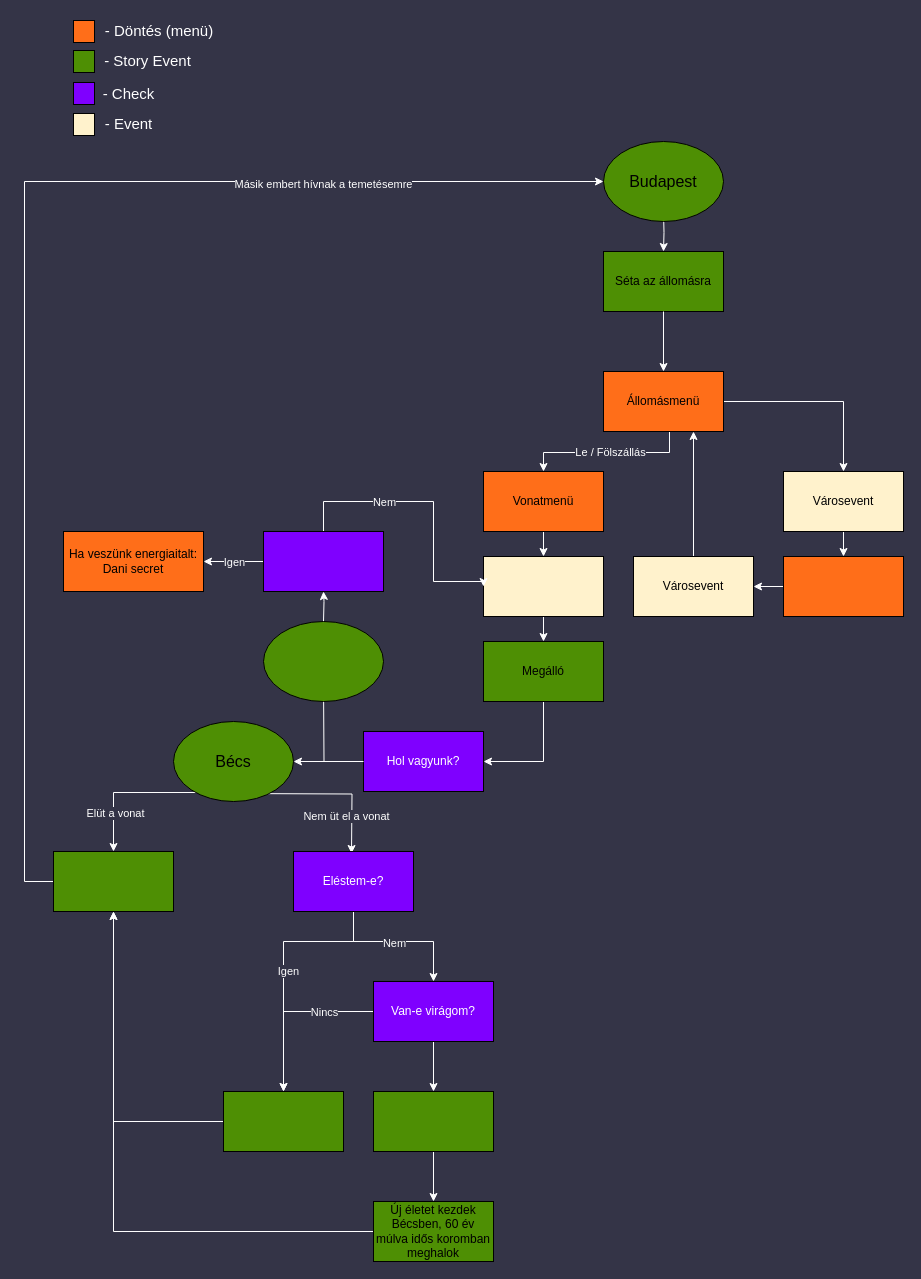
Image size: 921x1279. Some labels were removed from this diagram. The centre of each missing label's shape, as x and y in pixels:
"Boltmenü" belongs at point (843, 586).
"Kitagadnak a családból és kifekszem a vonat elé" belongs at point (283, 1121).
"Leszállunk?" belongs at point (323, 561).
"Szeret a család és sok pénzt adnak" belongs at point (433, 1121).
"Tatabánya" belongs at point (323, 661).
"The End" belongs at point (113, 881).
"Vonatevent" belongs at point (543, 586).
